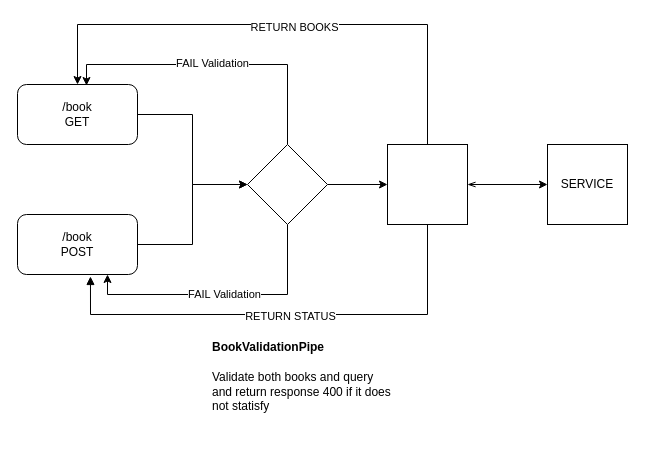
Some shapes in this 645 by 472 pixel diagram are drawn without their labels. The box of each missing label's shape, as (x1, y1, x2, y2) in pixels:
Controller: (386, 144, 468, 224)
Validate: (246, 144, 328, 224)
